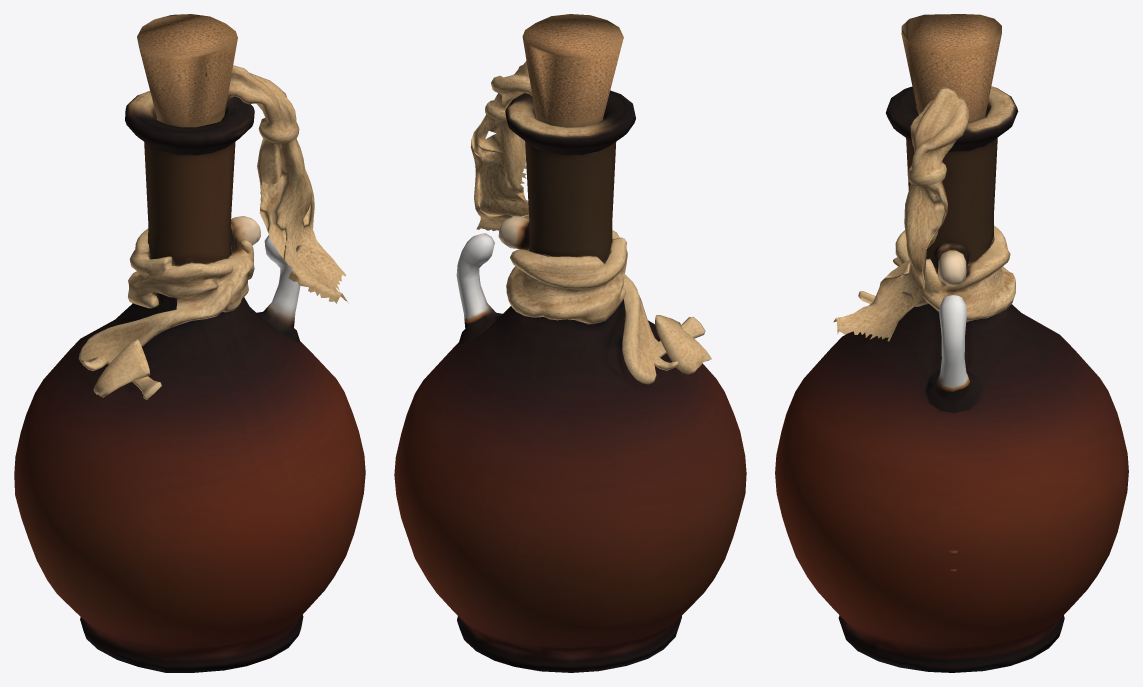
Rendered from ampolla_infiammabile.glb.
3 renders of one model, left to right at view 1: azimuth 30°, elevation 25°; view 2: azimuth 150°, elevation 25°; view 3: azimuth 270°, elevation 25°, orthographic.
Parts seen in each view (by area): view 1: Ampolla; view 2: Ampolla; view 3: Ampolla.
Boxes of the visible parts, x1,y1,x2,y2 form: Ampolla: (14, 14, 365, 672); Ampolla: (394, 14, 746, 672); Ampolla: (775, 14, 1128, 672).
Bounding box in the file's own units: 0.1099 × 0.2 × 0.1078.
Materials: 1 (1 with a texture image).
